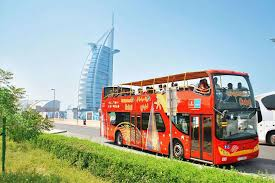bus: (98, 69, 262, 168)
